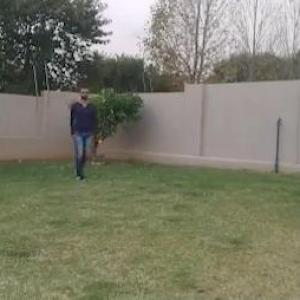follow: (70, 84, 93, 179)
